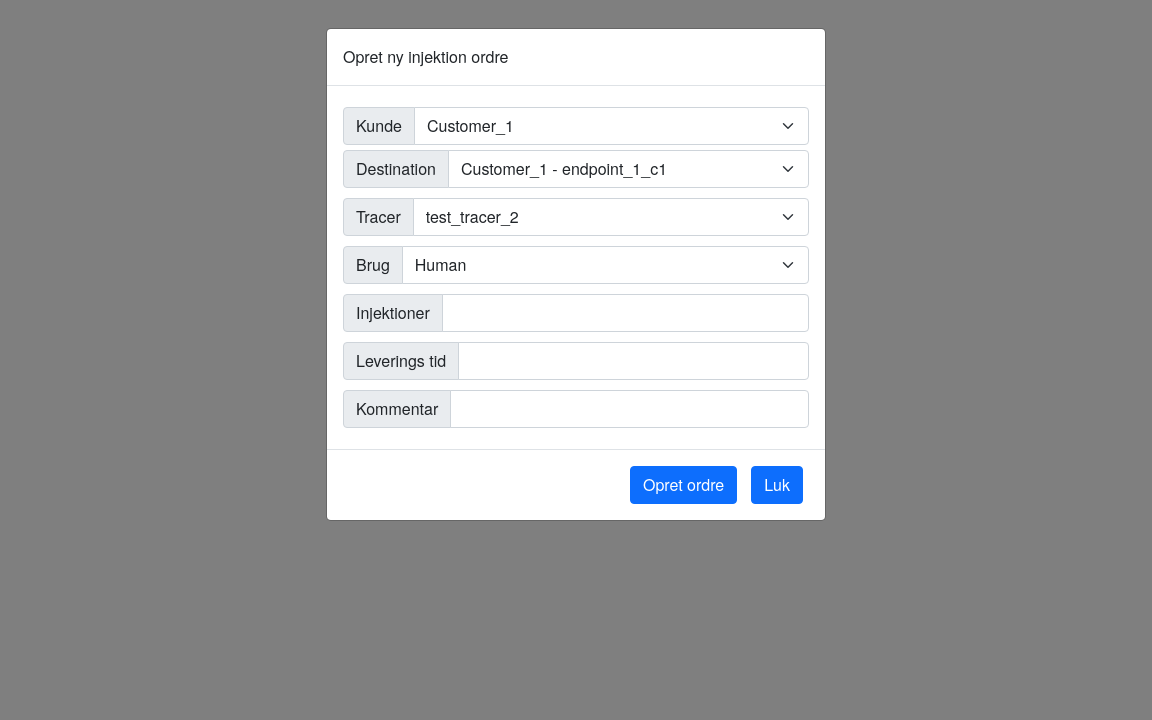
Test: Create injection Order › Update Tracer to empty endpoint disables button
# test endpoint with id 6 should have no tracers assigned!
Select "6" in the dropdown named "select-endpoint" at (628, 169), box x1=448 y1=150 x2=809 y2=188
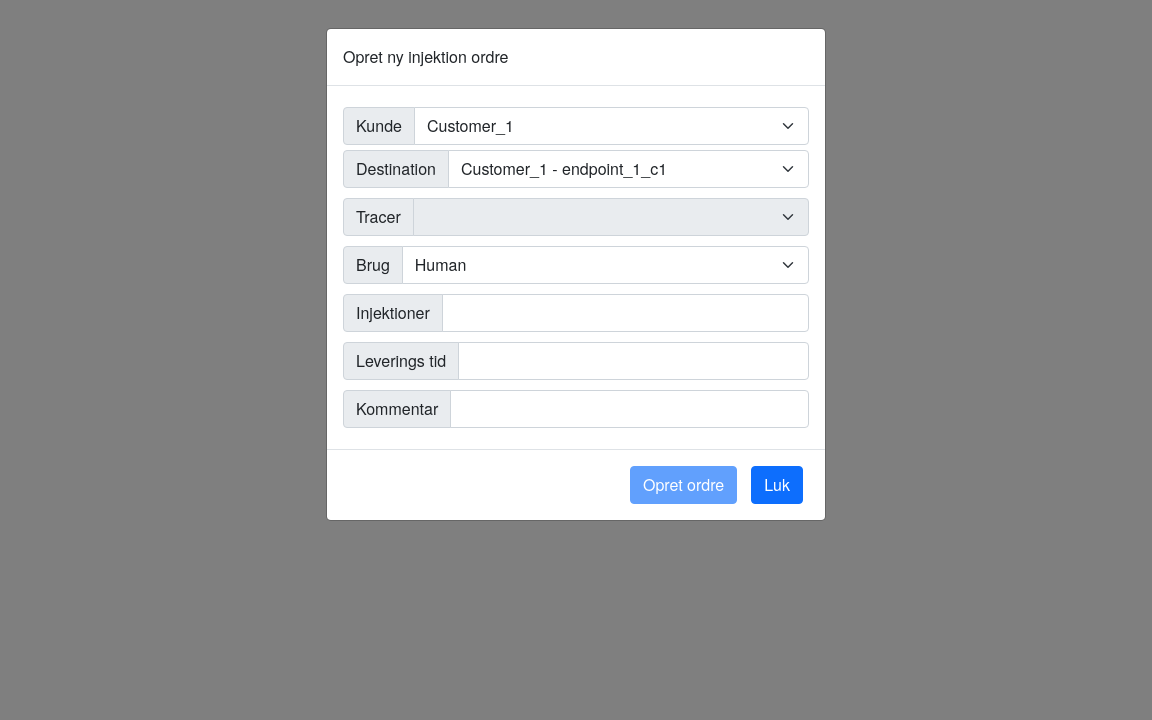
Check: the button "Opret ordre" is disabled, box x1=630 y1=466 x2=737 y2=504
